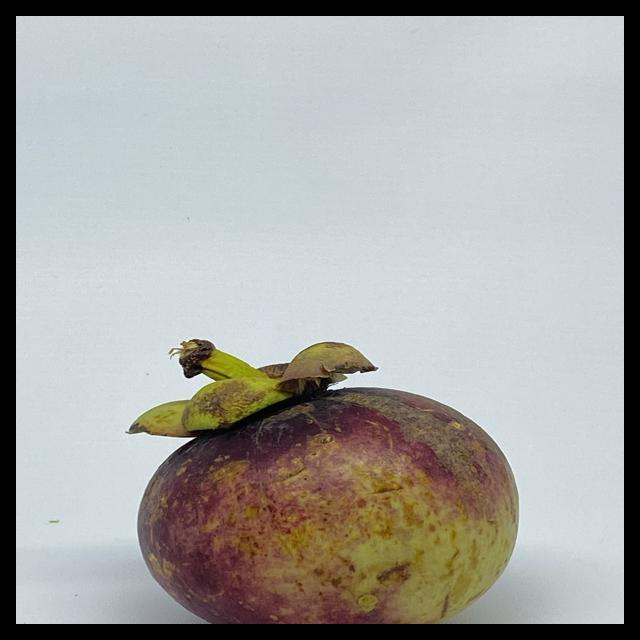mangosteen: (95, 294, 537, 624)
